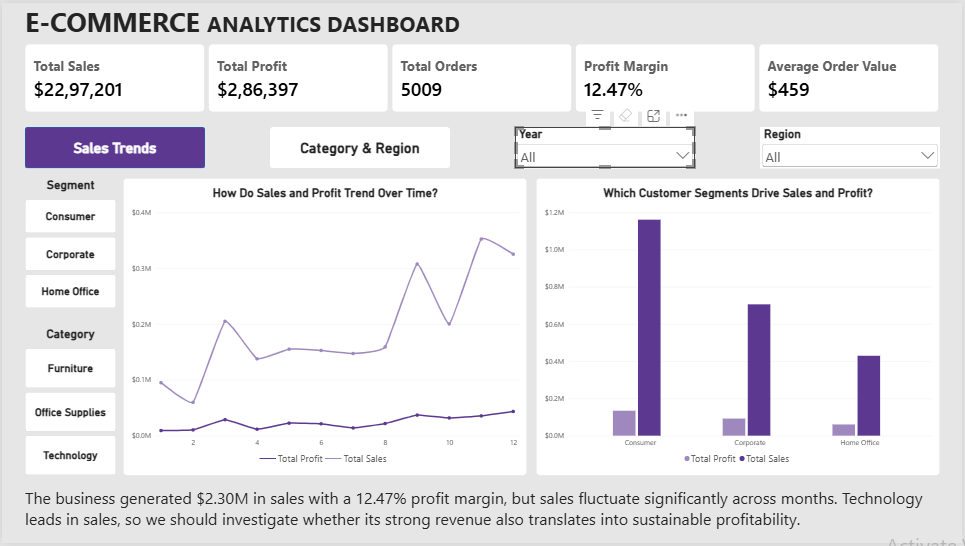

Layout of this report page (visuals, bound fields, positions):
{"tool":"powerbi","page":{"name":"Executive Overview","canvas":[1920,1080],"ordinal":0},"visuals":[{"type":"cardVisual","fields":{"Data":["_Measures.Total Sales","_Measures.Total Profit","_Measures.Total Orders","_Measures.Profit Margin","_Measures.Average Order Value"]},"box":[45,82.5,1830.4,136.6],"z":0},{"type":"slicer","fields":{"Values":["date_dim.Year"]},"box":[1025,247.5,360,82.5],"z":1000},{"type":"slicer","title":"Region","fields":{"Values":["geography_dim.region"]},"box":[1515,247.5,360,82.5],"z":2000},{"type":"advancedSlicerVisual","title":"Category","fields":{"Values":["product_dim.category"]},"box":[45,647.5,182.5,297.5],"z":3000},{"type":"textbox","box":[45,0,942.5,82.5],"z":4000},{"type":"advancedSlicerVisual","title":"Segment","fields":{"Values":["customer_dim.segment"]},"box":[45,350,182.5,262.5],"z":5000},{"type":"shape","box":[45,247.5,360,82.5],"z":6000},{"type":"shape","box":[535,247.5,360,82.5],"z":9000},{"type":"clusteredColumnChart","title":"Which Product Categories Contribute Most to Sales and Profit?","fields":{"Category":["product_dim.category"],"Y":["_Measures.Total Profit","_Measures.Total Sales"]},"box":[242.5,350,807.5,595],"z":10000},{"type":"lineClusteredColumnComboChart","title":"Which Regions Generate the Highest Sales and Profit?","fields":{"Category":["geography_dim.region"],"Y":["_Measures.Total Profit"],"Y2":["_Measures.Total Sales"]},"box":[1067.5,350,807.5,595],"z":11000},{"type":"textbox","box":[45,965,1827.5,92.5],"z":13001}]}

Visuals, with their boxes on the page's 1920x1080 design canvas (x1, y1, x2, y2). These are canvas units, not pixel positions in the 965x546 screenshot, which may show the page scaled, cropped or inside an application window:
cardVisual - _Measures.Total Sales x _Measures.Total Profit: [left=45, top=82, right=1875, bottom=219]
slicer - date_dim.Year: [left=1025, top=248, right=1385, bottom=330]
"Region" slicer: [left=1515, top=248, right=1875, bottom=330]
"Category" advancedSlicerVisual: [left=45, top=648, right=228, bottom=945]
textbox: [left=45, top=0, right=988, bottom=82]
"Segment" advancedSlicerVisual: [left=45, top=350, right=228, bottom=612]
shape: [left=45, top=248, right=405, bottom=330]
shape: [left=535, top=248, right=895, bottom=330]
"Which Product Categories Contribute Most to Sales and Profit?" clusteredColumnChart: [left=242, top=350, right=1050, bottom=945]
"Which Regions Generate the Highest Sales and Profit?" lineClusteredColumnComboChart: [left=1068, top=350, right=1875, bottom=945]
textbox: [left=45, top=965, right=1872, bottom=1058]
